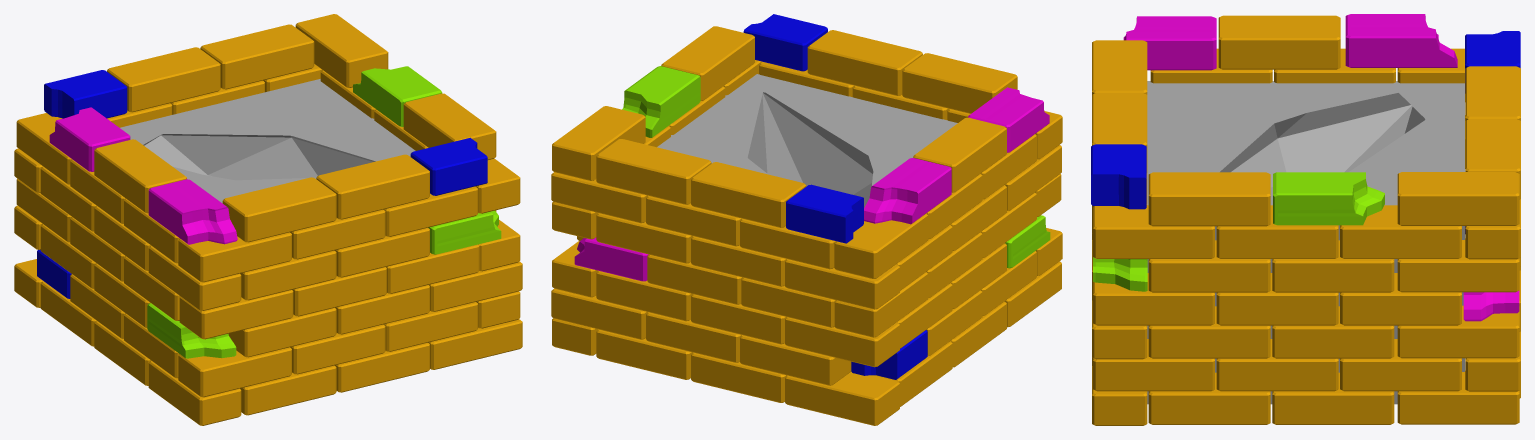
The model's file is MOD_Deposit_Crystal_OUT.fbx.
3 views of the same model, side by side, from view 1: azimuth 30°, elevation 25°; view 2: azimuth 150°, elevation 25°; view 3: azimuth 270°, elevation 25° (orthographic). The views are drawn at different scales.
Visible parts, largest first — view 1: Deposit_Crystal_Out; view 2: Deposit_Crystal_Out; view 3: Deposit_Crystal_Out.
Part boxes in pixels (x1,y1,x2,y2): Deposit_Crystal_Out: (14, 14, 522, 425); Deposit_Crystal_Out: (551, 14, 1062, 425); Deposit_Crystal_Out: (1091, 14, 1520, 425).
Bounding box in the file's own units: 249 × 148 × 249.
